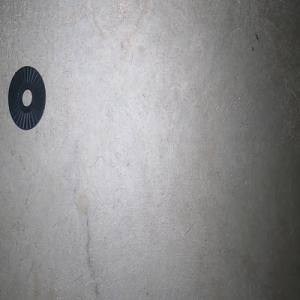Washer: (7, 65, 45, 130)
